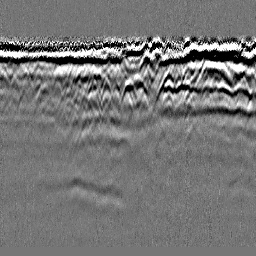cavity: (119, 76, 137, 105)
